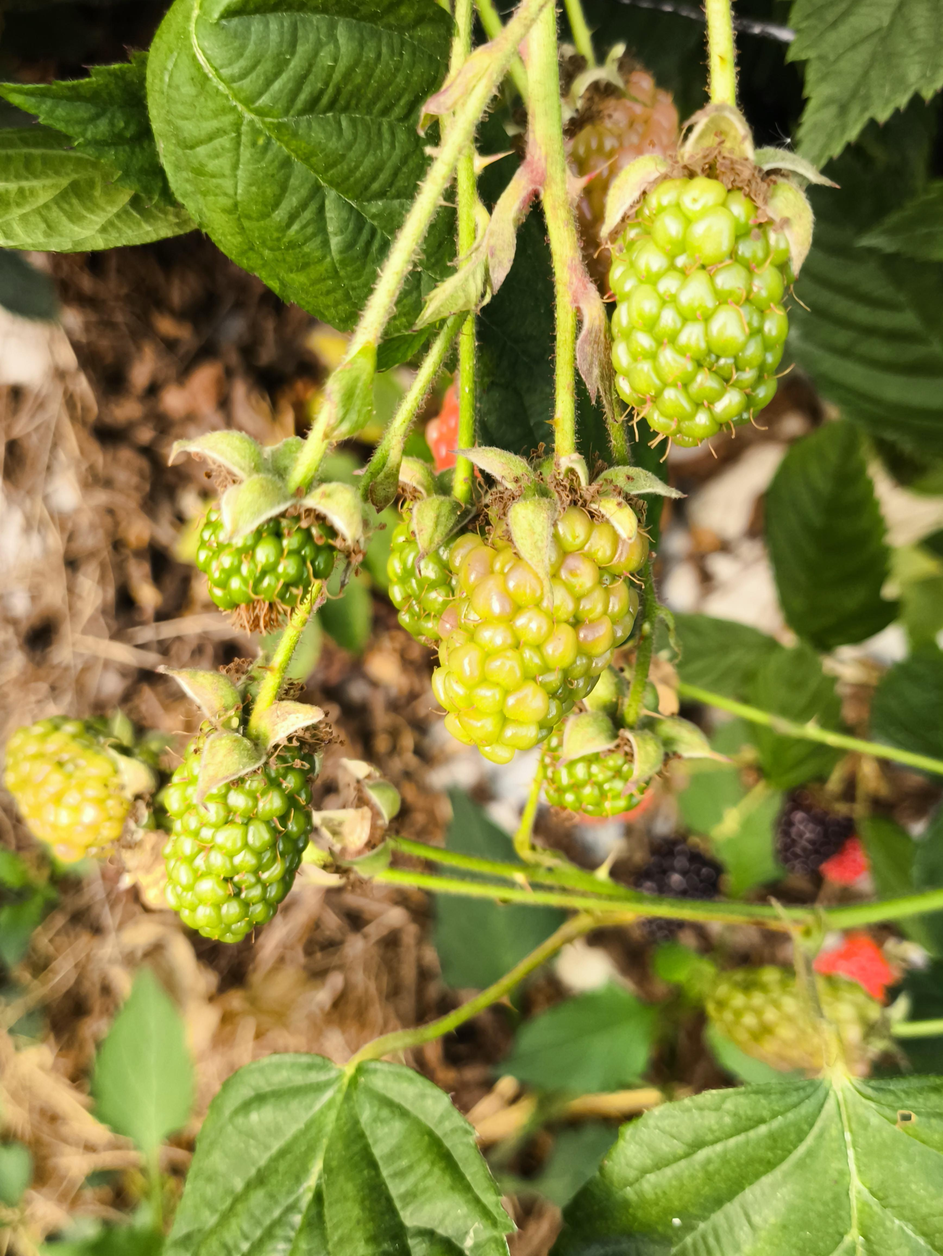verde: (609, 146, 808, 446), (433, 493, 645, 765), (163, 722, 319, 943), (5, 719, 130, 862), (196, 507, 334, 622)
